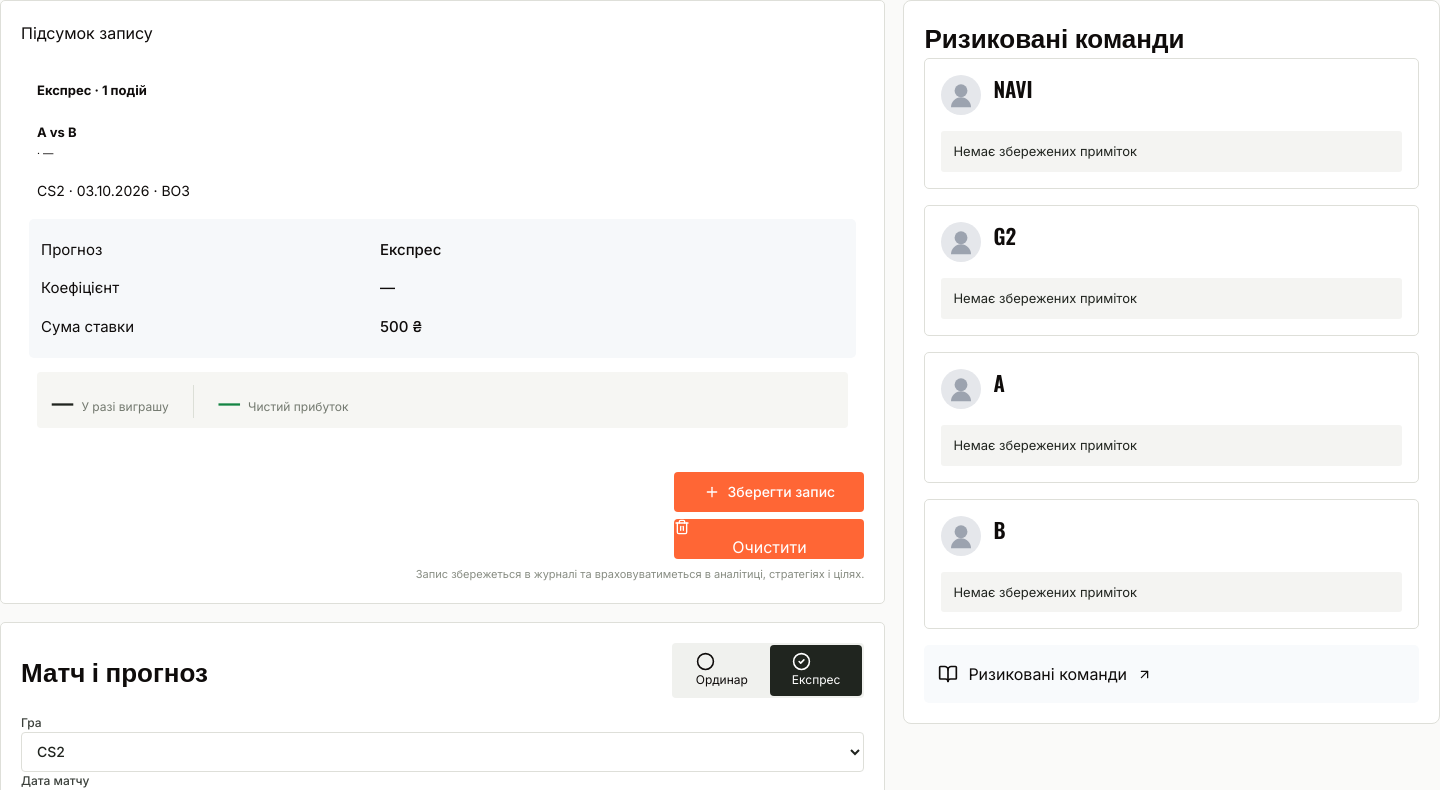
Test case: Single-page record entry › blocks incomplete express
Click the button "Зберегти запис" at {"x": 769, "y": 492}, box [674,472,864,512]
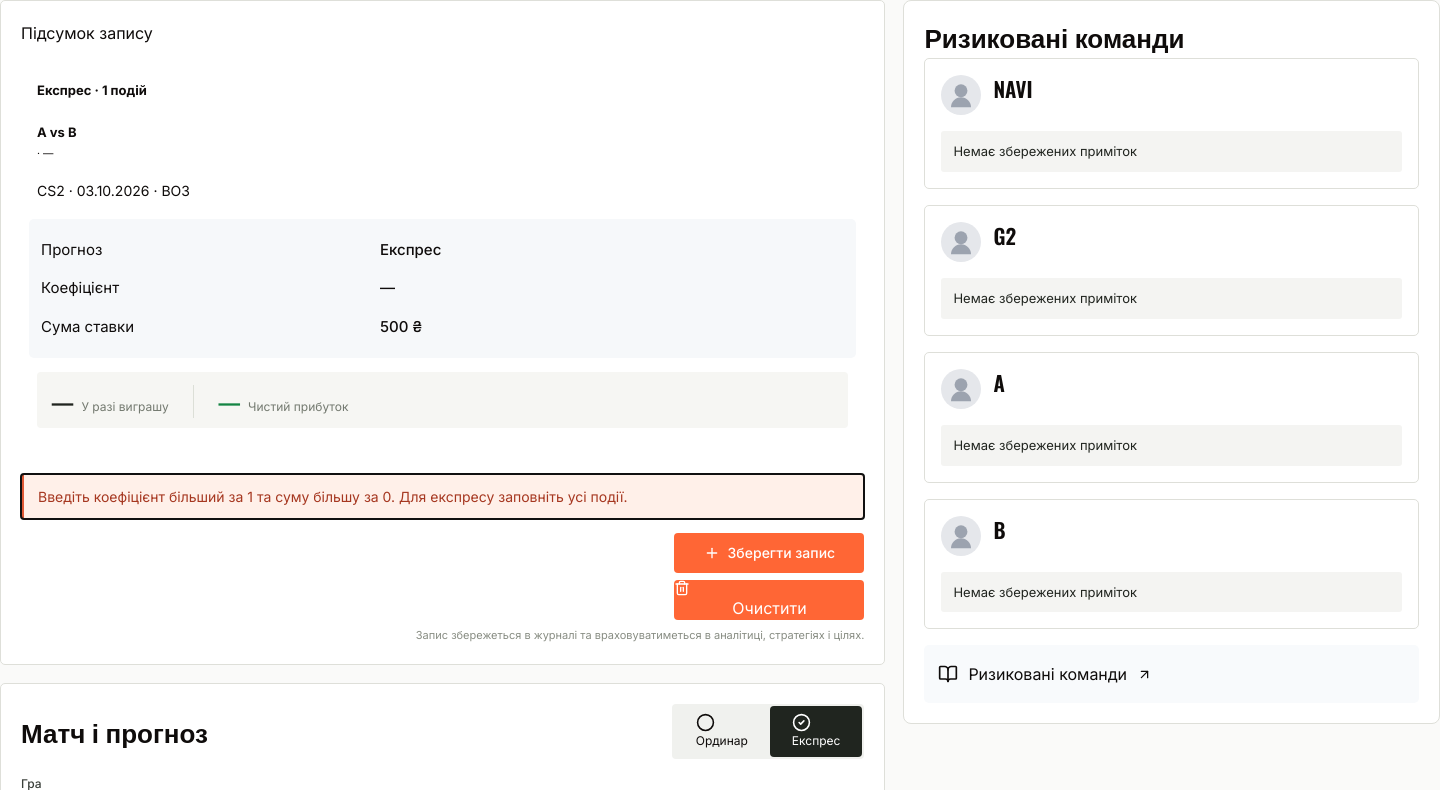
Expected: the message is shown, [21,474,864,519]
